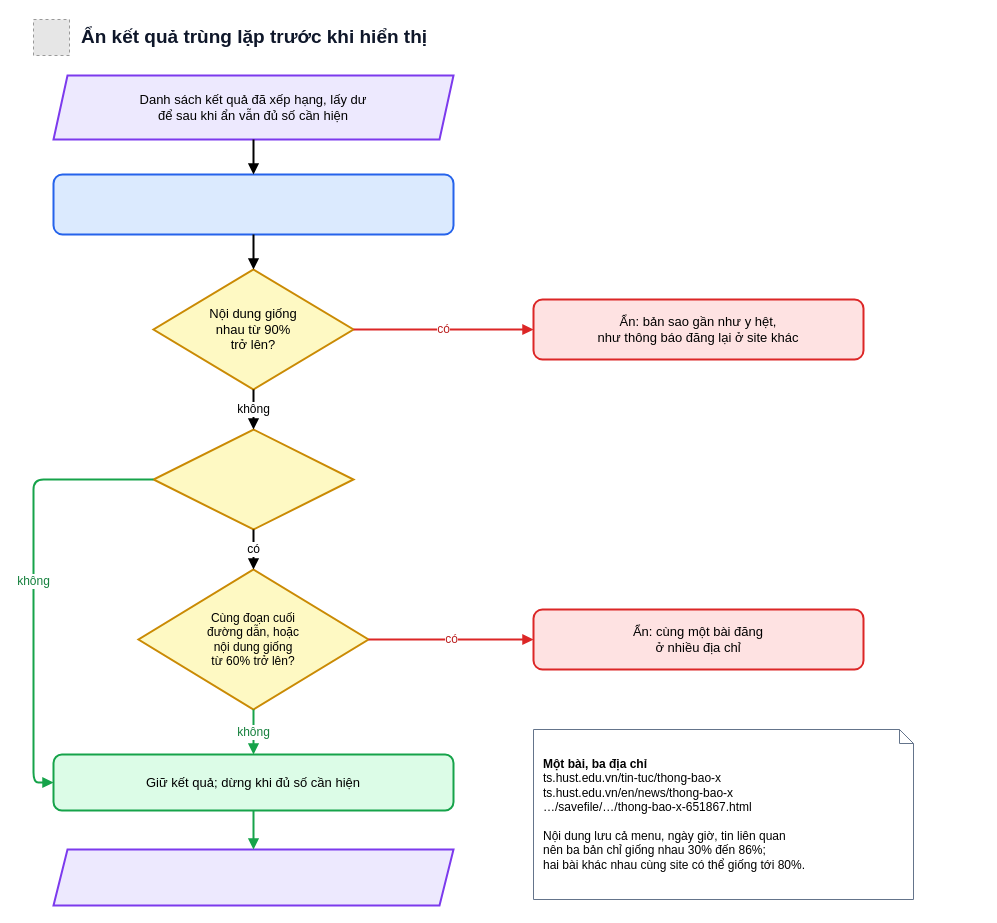
The diagram is 997 pixels wide and 923 high, and some of its shapes have lost their labels. Grey dashed boxes stand in for pictures. Here are the shapes that lost their labels. From the top down, the centre of each, then its label:
At point (253, 204): "Lấy kết quả tiếp theo, so với từng kết quả đã giữ ở phía trên".
At point (253, 479): "Cùng tiêu đề?".
At point (253, 877): "Danh sách hiển thị, kèm số kết quả đã ẩn".
